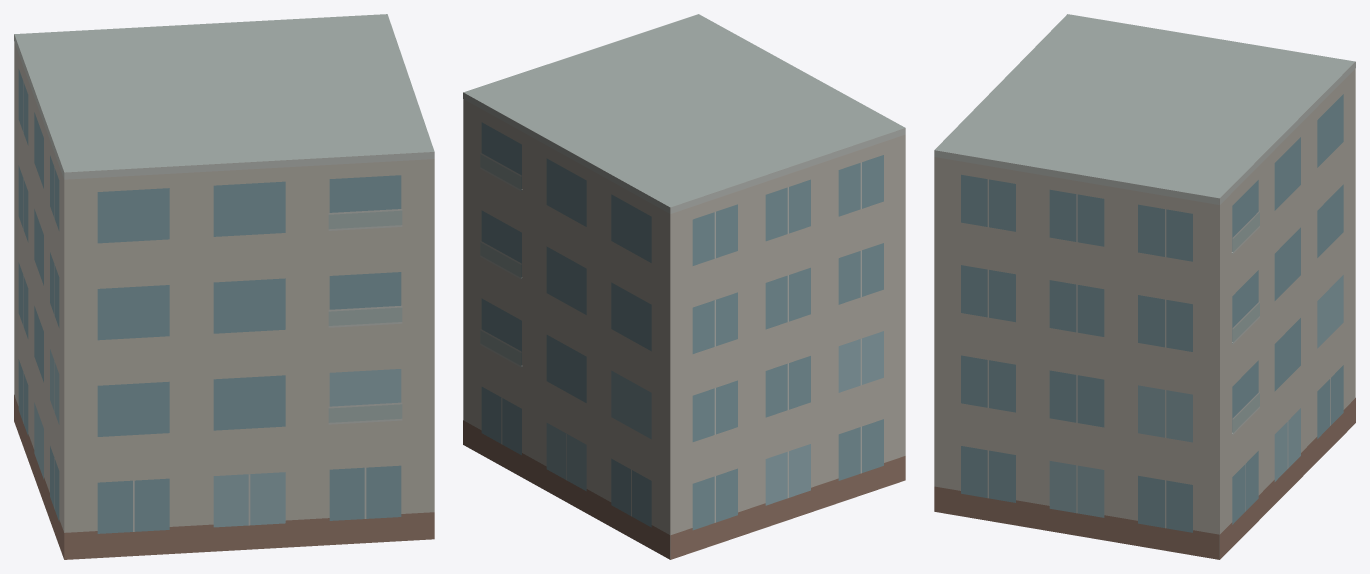
Rendered from survey-upis-33022586.glb.
3 views of the same model, side by side, from view 1: azimuth 30°, elevation 25°; view 2: azimuth 150°, elevation 25°; view 3: azimuth 270°, elevation 25° (orthographic). The views are drawn at different scales.
Parts seen in each view (by area): view 1: survey-upis-33022586.tmp; view 2: survey-upis-33022586.tmp; view 3: survey-upis-33022586.tmp.
Part boxes in pixels (left/top/right/bottom): survey-upis-33022586.tmp: left=14, top=14, right=434, bottom=559; survey-upis-33022586.tmp: left=463, top=14, right=905, bottom=559; survey-upis-33022586.tmp: left=934, top=14, right=1355, bottom=559.
Bounding box in the file's own units: 14.34 × 13.1 × 13.85.
